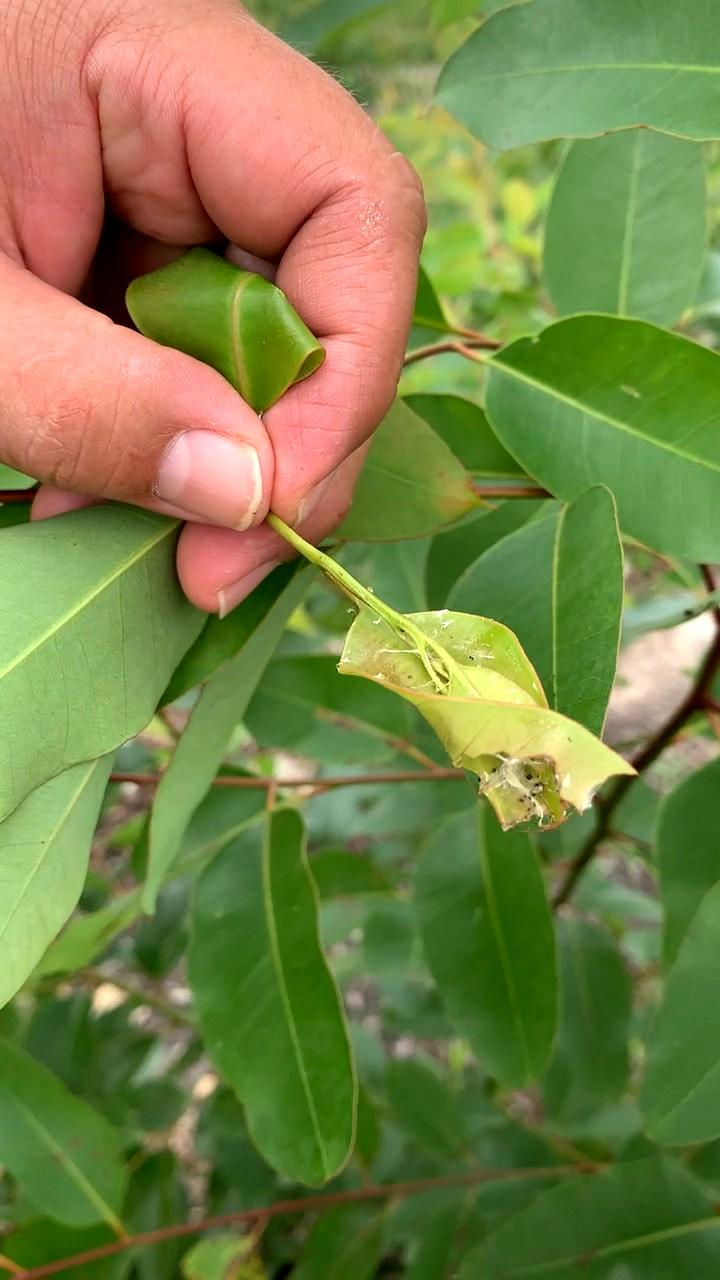Leaf Roller - Leaf: (330, 578, 633, 847)
